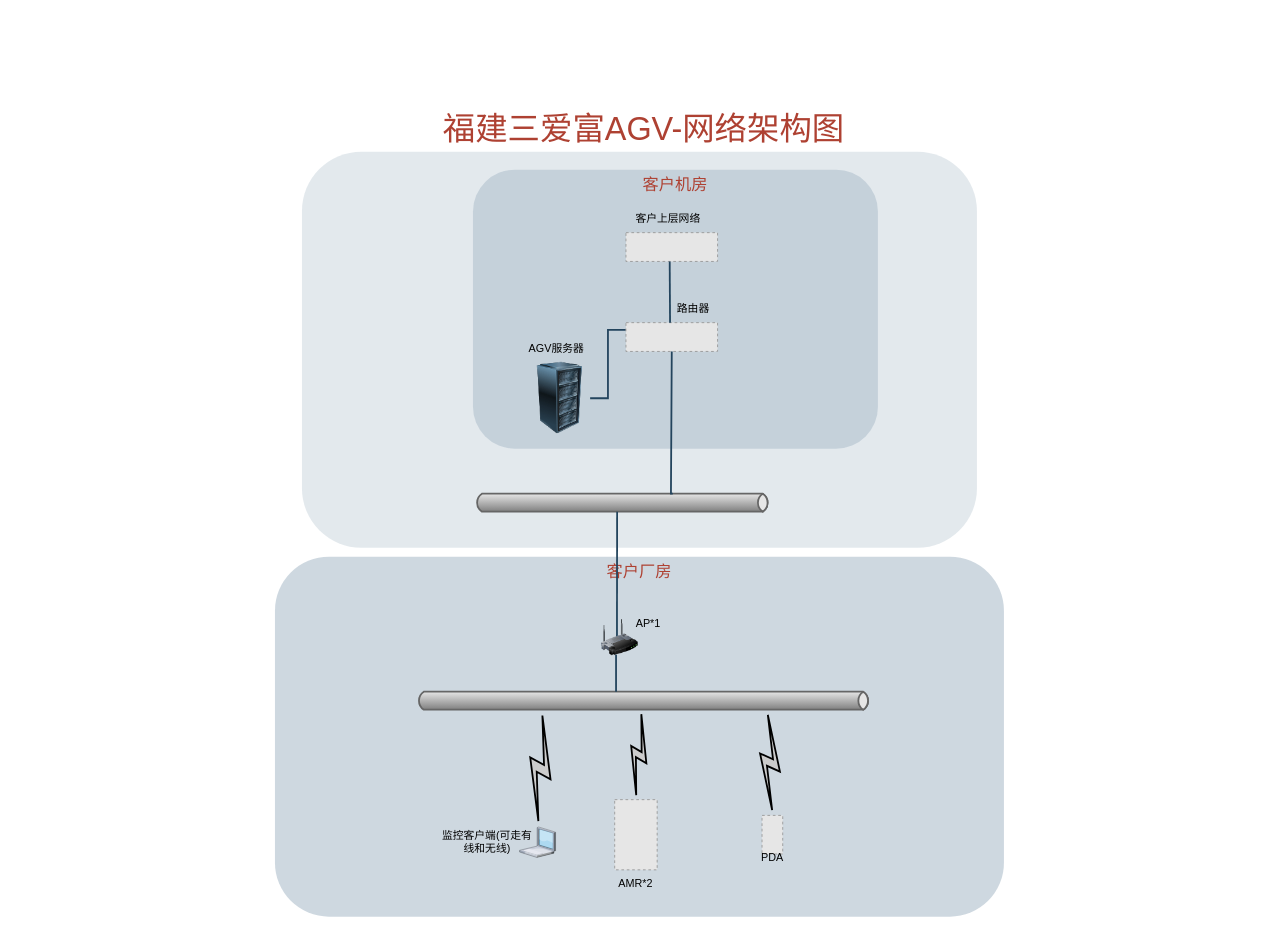
This 1280x932 diagram has some shape labels left out. Grey dashed boxes stand in for pictures. The shapes that lost their labels are listed below. From the top down, each one's centre as x and y in pixels, then its label:
At point (621, 502): "POE供电模块".
At point (643, 700): "无线网络".
